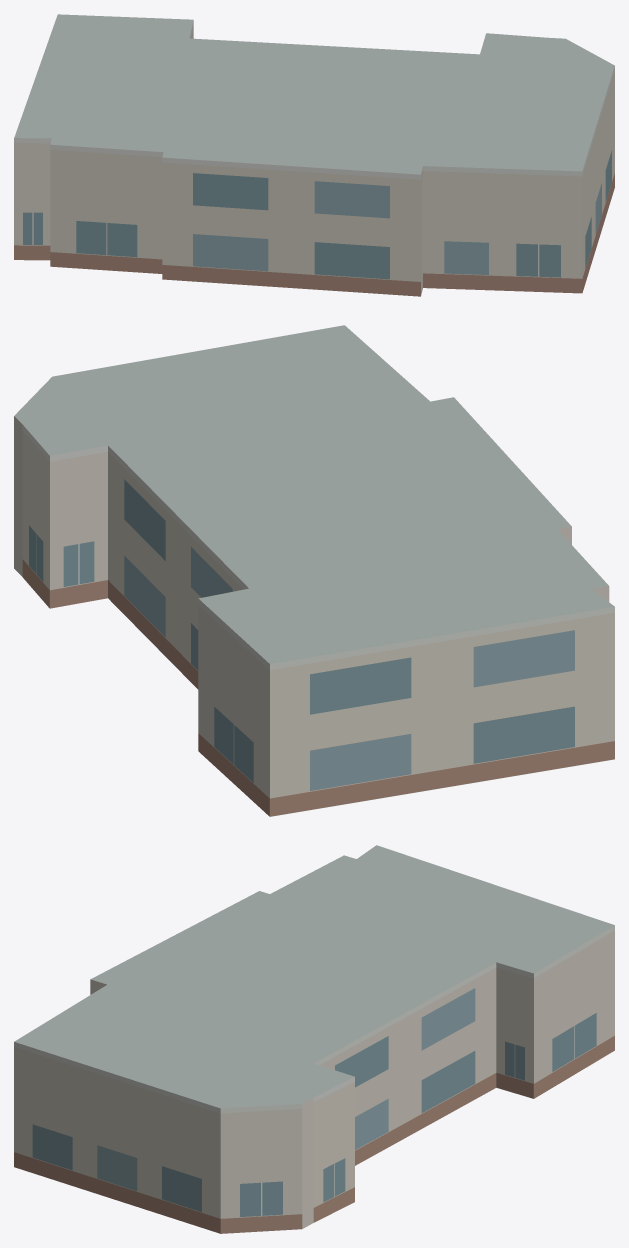
File: survey-upis-32866175.glb
3 views of the same model, one above another, from view 1: azimuth 30°, elevation 25°; view 2: azimuth 150°, elevation 25°; view 3: azimuth 270°, elevation 25° (orthographic). The views are drawn at different scales.
Parts seen in each view (by area): view 1: survey-upis-32866175.tmp; view 2: survey-upis-32866175.tmp; view 3: survey-upis-32866175.tmp.
Part boxes in pixels (x1,y1,x2,y2): survey-upis-32866175.tmp: (14,14,614,296); survey-upis-32866175.tmp: (14,325,614,816); survey-upis-32866175.tmp: (14,845,614,1233).
Size of the model in its own units: 27.5 by 6.1 by 26.51.
